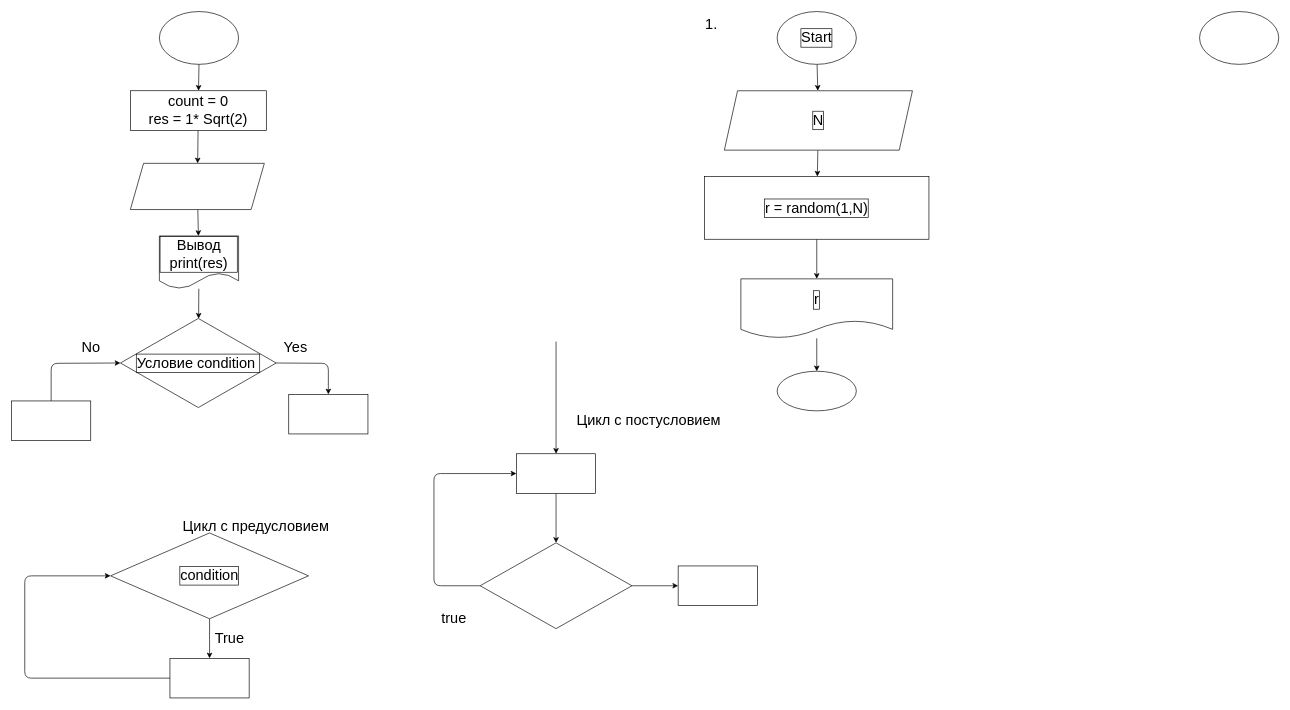
Some shapes in this 1290 by 710 pixel diagram are drawn without their labels. The shapes that lost their labels are listed below. From the top down, each one's centre as x and y in pixels, then its label:
At [199,37]: "Start END".
At [197,186]: "Ввод count".
At [816,391]: "End".
At [555,585]: "false".
